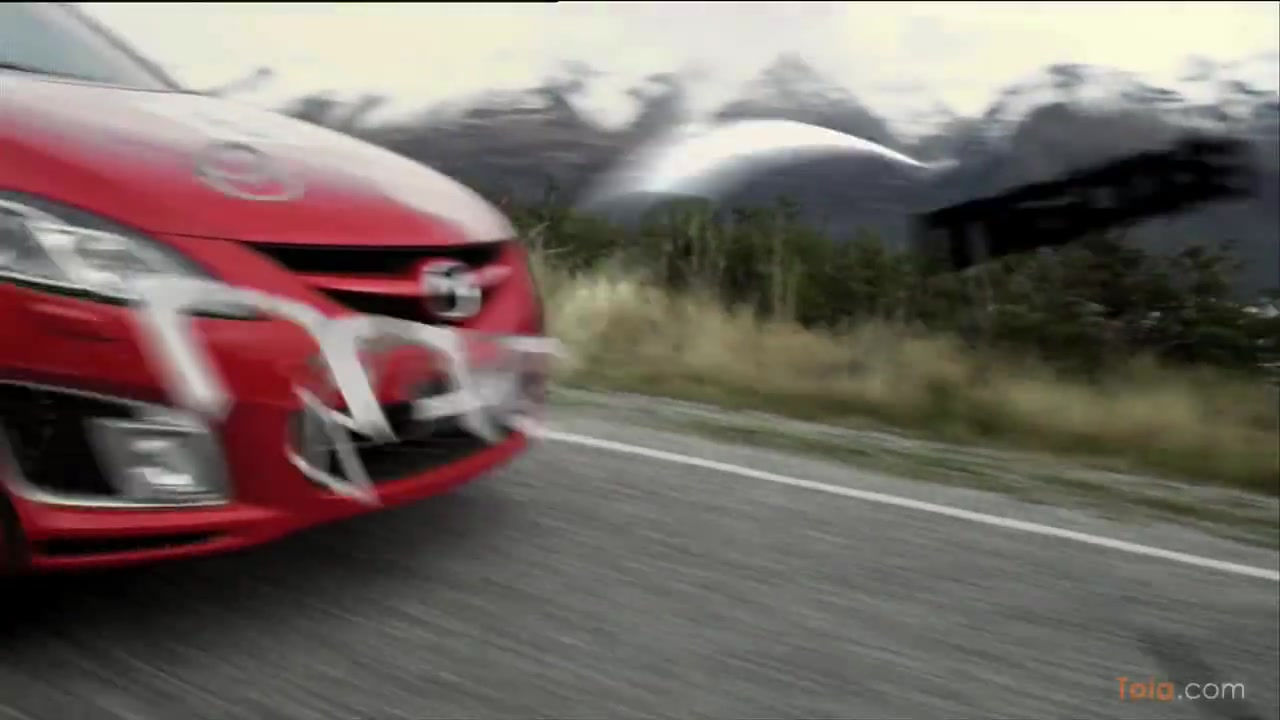car: (1, 5, 548, 653)
